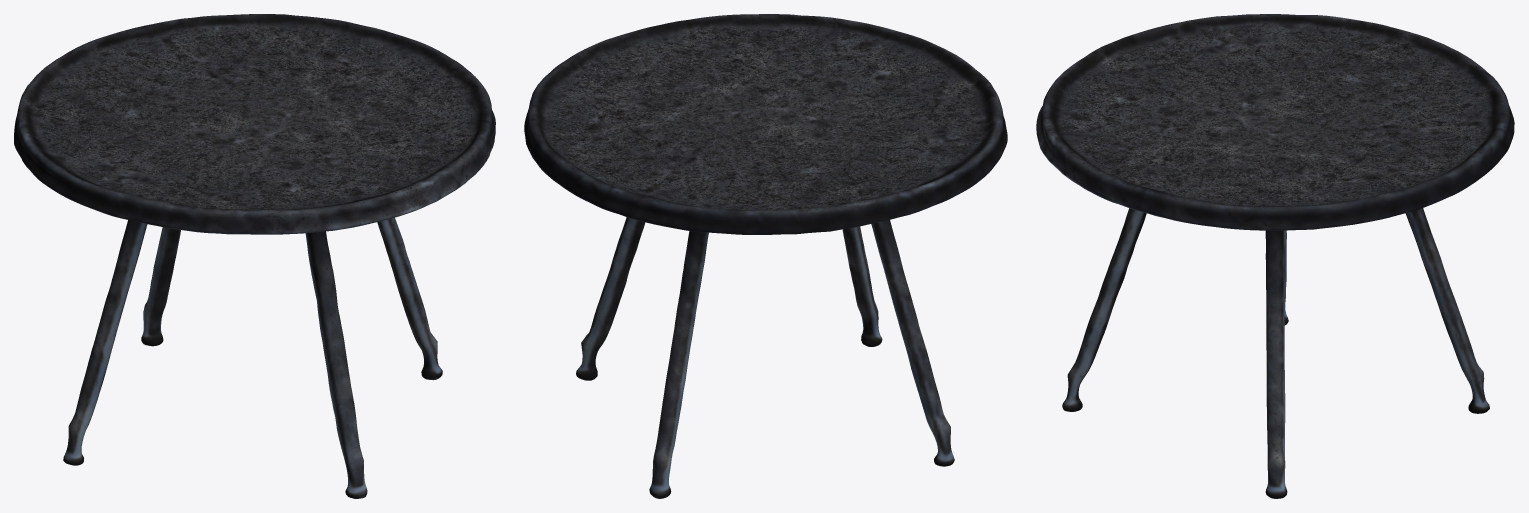
Rendered from Table.fbx.
The picture shows the model from 3 angles, left to right: view 1: azimuth 30°, elevation 25°; view 2: azimuth 150°, elevation 25°; view 3: azimuth 270°, elevation 25°; orthographic projection. The views are drawn at different scales.
Parts seen in each view (by area): view 1: mesh; view 2: mesh; view 3: mesh.
Part boxes in pixels (bbox=[...]): mesh: bbox=[14, 14, 495, 498]; mesh: bbox=[524, 14, 1007, 498]; mesh: bbox=[1036, 14, 1514, 498].
Bounding box in the file's own units: 99.72 × 69.56 × 99.68.
